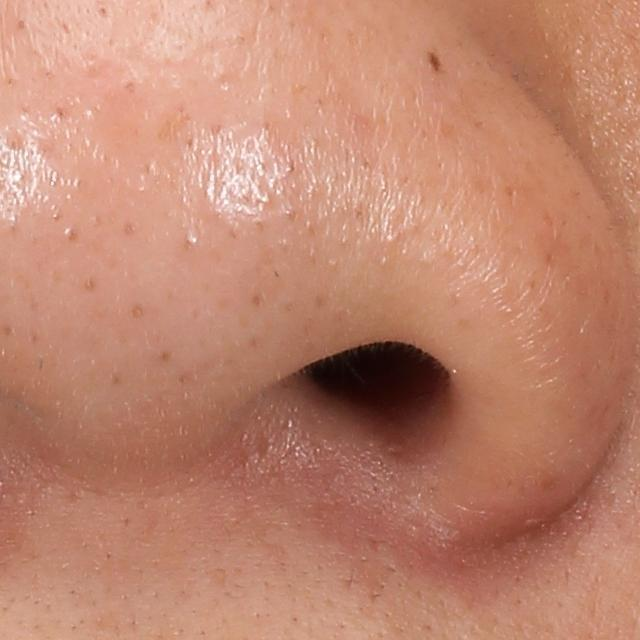comedo: (12, 15, 33, 33)
nevus: (420, 47, 442, 76)
